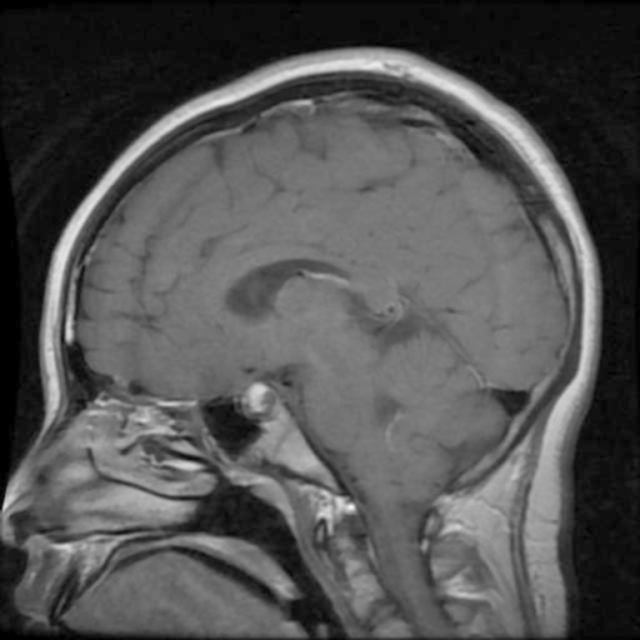no tumor: (232, 373, 286, 428)
